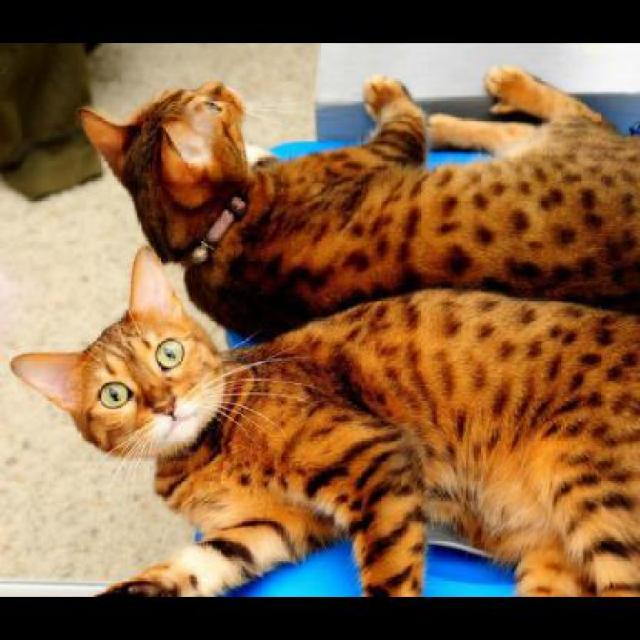unauthorized: (9, 243, 638, 597), (74, 63, 638, 348)
